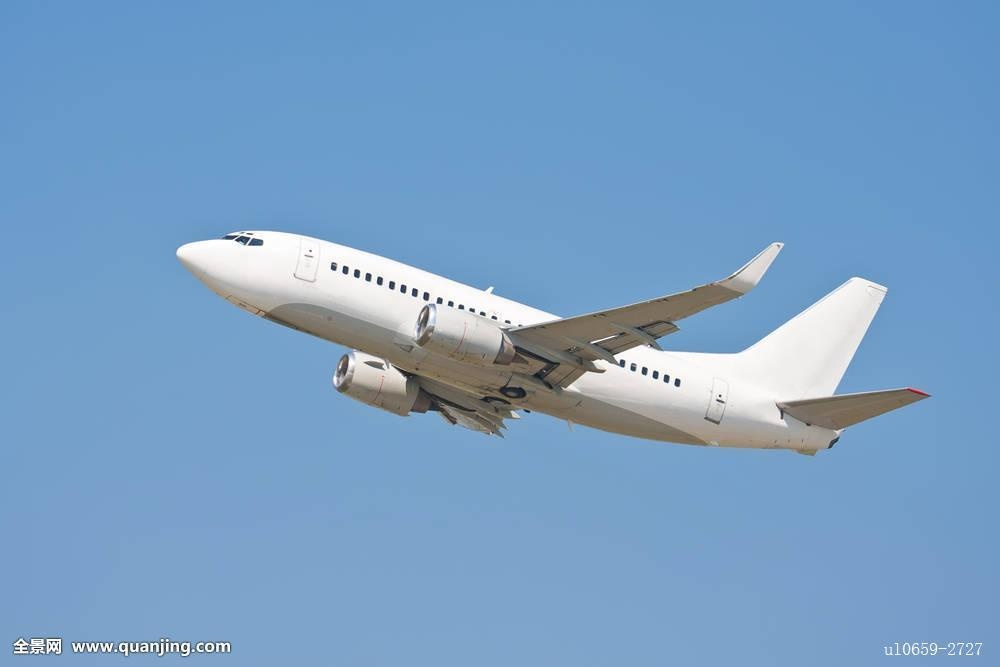airplane: (172, 220, 933, 467)
